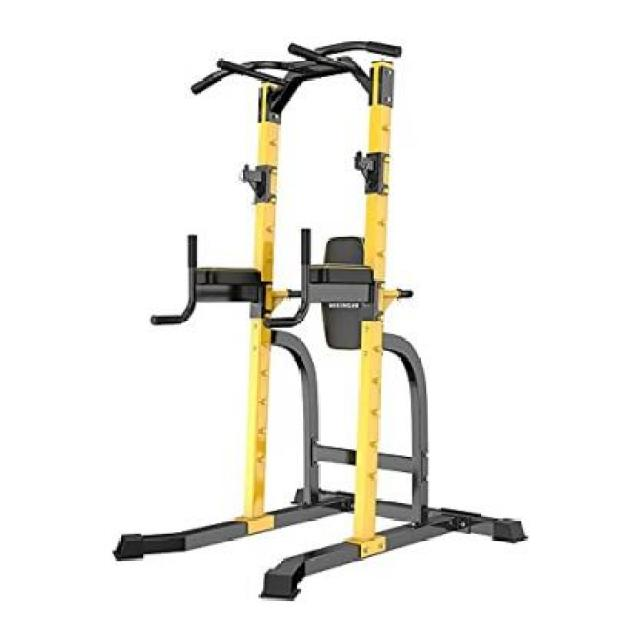chinning dipping: (111, 40, 529, 594)
